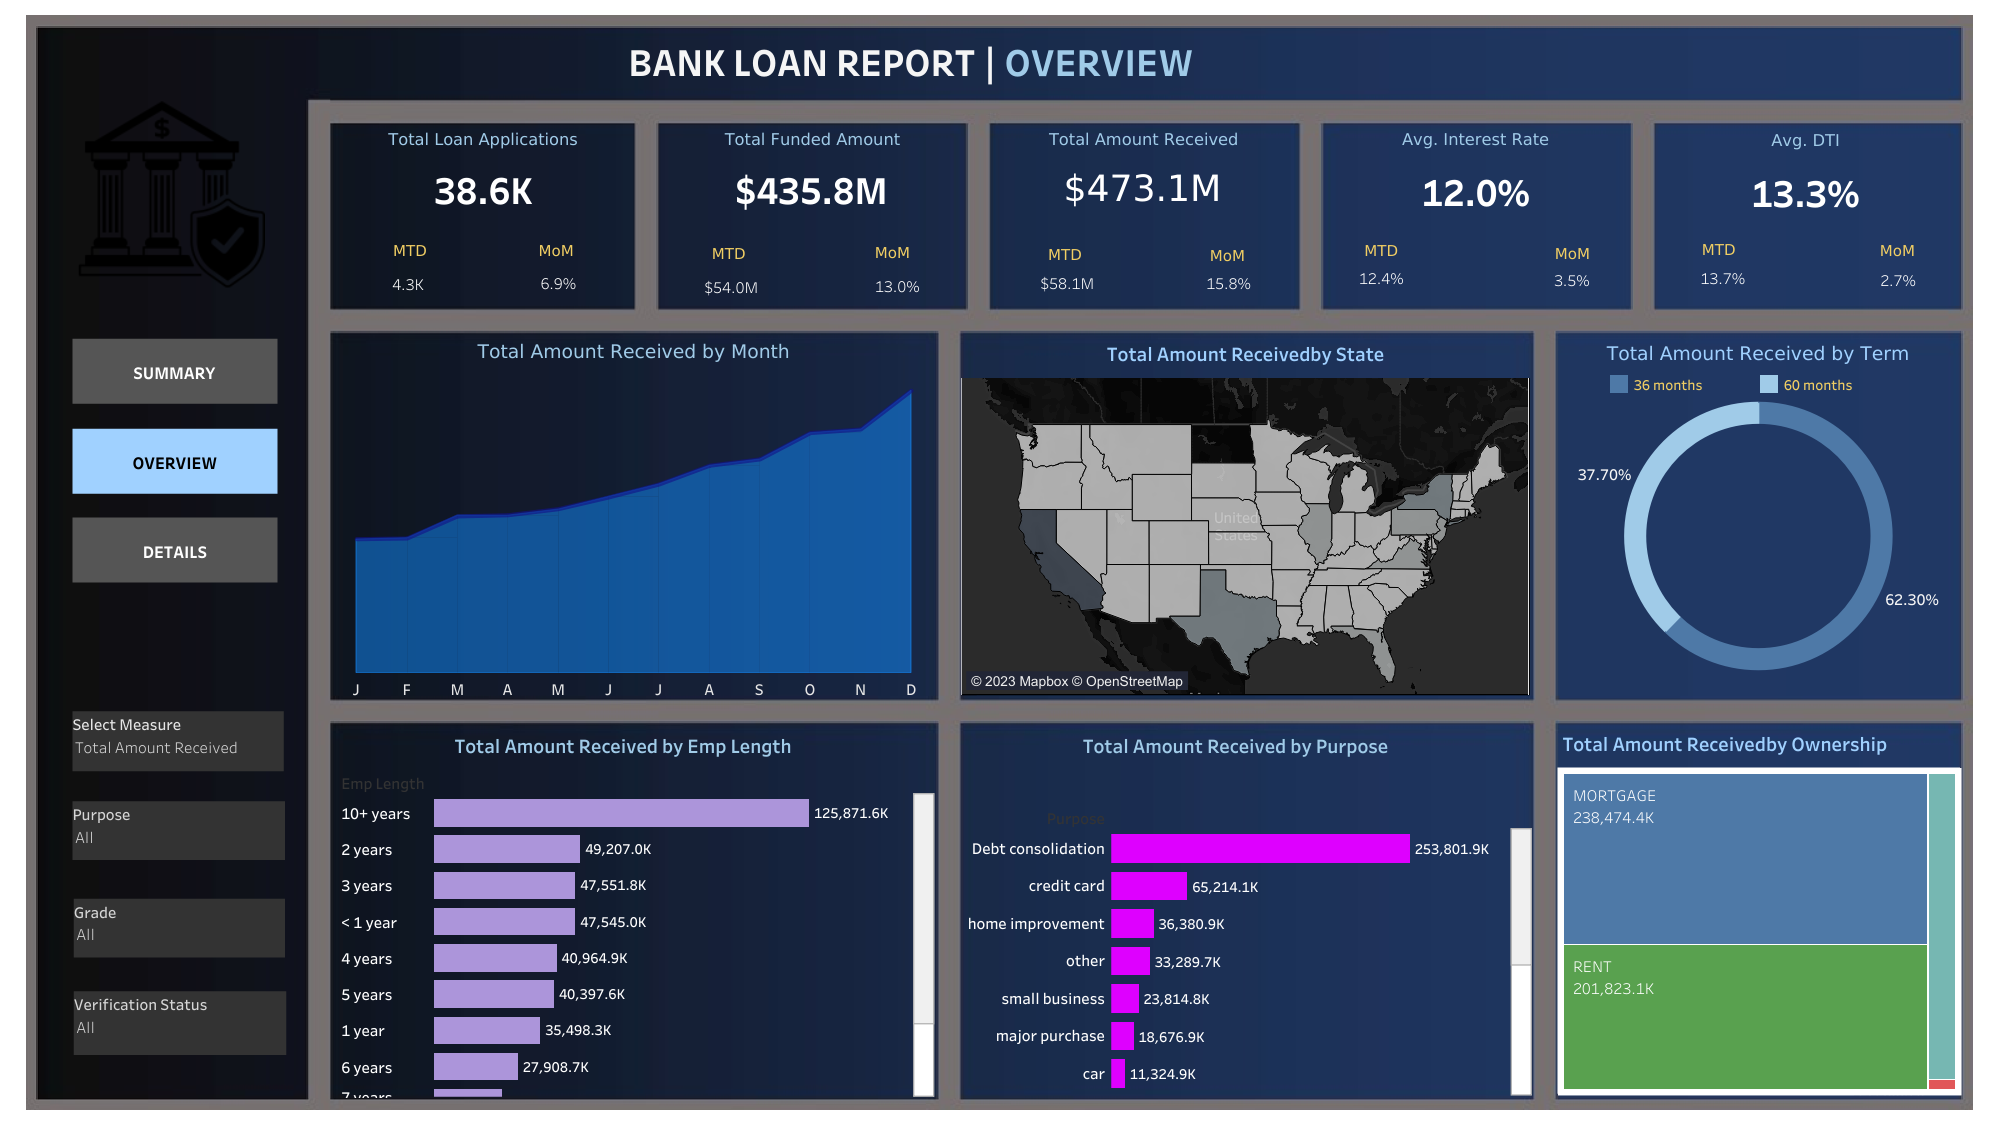

Layout of this report page (visuals, bound fields, positions):
{"tool":"tableau","page":{"name":"OVERVIEW","canvas":[1600,900],"ordinal":1},"visuals":[{"type":"image","param":"Image/Tableau Background 2.jpg","box":[8,8,1584,884]},{"type":"text","box":[500,25,591,48]},{"type":"image","param":"Image/finance-7731978_1280 1.png","box":[63,81,150,149]},{"type":"worksheet","title":"Total Loan Applications","mark":"Automatic","box":[266,97,241,76]},{"type":"worksheet","title":"Total Funded Amount","mark":"Automatic","box":[528,97,244,76]},{"type":"worksheet","title":"Total Amount Received","mark":"Automatic","box":[793,97,244,76]},{"type":"worksheet","title":"Avg. Interest Rate","mark":"Automatic","box":[1059,97,243,80]},{"type":"worksheet","title":"Avg. DTI","mark":"Automatic","box":[1324,98,241,79]},{"type":"text","box":[1346,184,58,30]},{"type":"text","box":[1076,185,58,30]},{"type":"text","box":[1489,185,58,30]},{"type":"text","box":[685,186,58,30]},{"type":"text","box":[554,187,58,30]},{"type":"text","box":[1229,187,58,30]},{"type":"text","box":[299,188,58,24]},{"type":"text","box":[416,188,58,24]},{"type":"text","box":[823,188,58,30]},{"type":"text","box":[953,189,58,30]},{"type":"worksheet","title":"MTD Avg Int Rate","mark":"Automatic","box":[1075,200,61,45]},{"type":"worksheet","title":"MoM Total Amount Received","mark":"Automatic","box":[940,204,86,45]},{"type":"worksheet","title":"MTD Avg. DTI","mark":"Automatic","box":[1338,205,81,34]},{"type":"worksheet","title":"MTD Total Amount Received","mark":"Automatic","box":[819,209,71,34]},{"type":"worksheet","title":"MoM Avg Int Rate","mark":"Automatic","box":[1215,209,85,31]},{"type":"worksheet","title":"MoM Avg DTI","mark":"Automatic","box":[1483,209,71,30]},{"type":"worksheet","title":"MoM Total Funded Amount","mark":"Automatic","box":[684,215,68,26]},{"type":"worksheet","title":"MTD Total Loan Applications","mark":"Automatic","box":[293,216,69,22]},{"type":"worksheet","title":"MoM Loan Application","mark":"Automatic","box":[414,217,65,19]},{"type":"worksheet","title":"MTD Total Funded Amount","mark":"Automatic","box":[546,220,78,18]},{"type":"worksheet","title":"MONTH","mark":"Area","rows":["Calculation_850054466537177132","Calculation_850054466537177132"],"cols":["issue_date"],"box":[265,266,484,294]},{"type":"worksheet","title":"STATE","mark":"Multipolygon","box":[769,266,455,290]},{"type":"worksheet","title":"TERM","mark":"Pie","rows":["Calculation_850054466557825070","Calculation_850054466557825070"],"box":[1247,268,319,289]},{"type":"dashboard-object","box":[58,271,164,52]},{"type":"legend","title":"TERM","param":"[federated.1d02x8h0645hfc154q3pg11jt201].[none:term:nk]","box":[1285,297,268,23]},{"type":"dashboard-object","box":[58,343,164,52]},{"type":"dashboard-object","box":[58,414,164,52]},{"type":"parameter","param":"[Parameters].[Parameter 1]","box":[58,569,169,48]},{"type":"worksheet","title":"Ownership","mark":"Automatic","box":[1246,578,322,302]},{"type":"worksheet","title":"Emp Length","mark":"Automatic","rows":["emp_length"],"cols":["Calculation_850054466537177132"],"box":[267,579,481,298]},{"type":"worksheet","title":"Purpose","mark":"Automatic","rows":["purpose"],"cols":["Calculation_850054466537177132"],"box":[769,579,457,297]},{"type":"filter","title":"Avg. DTI","param":"[federated.1d02x8h0645hfc154q3pg11jt201].[none:purpose:nk]","box":[58,641,170,47]},{"type":"filter","title":"Avg. DTI","param":"[federated.1d02x8h0645hfc154q3pg11jt201].[none:grade:nk]","box":[59,719,169,47]},{"type":"filter","title":"Avg. DTI","param":"[federated.1d02x8h0645hfc154q3pg11jt201].[none:verification_status:nk]","box":[59,793,170,51]}]}

Visuals, with their boxes in screenshot pixels (x1, y1, x2, y2), scaled from the page's 1600x900 canvas onto the 1999x1124 screenshot:
image: left=10, top=10, right=1989, bottom=1114
text: left=625, top=31, right=1363, bottom=91
image: left=79, top=101, right=266, bottom=287
"Total Loan Applications" worksheet: left=332, top=121, right=633, bottom=216
"Total Funded Amount" worksheet: left=660, top=121, right=965, bottom=216
"Total Amount Received" worksheet: left=991, top=121, right=1296, bottom=216
"Avg. Interest Rate" worksheet: left=1323, top=121, right=1627, bottom=221
"Avg. DTI" worksheet: left=1654, top=122, right=1955, bottom=221
text: left=1682, top=230, right=1754, bottom=267
text: left=1344, top=231, right=1417, bottom=269
text: left=1860, top=231, right=1933, bottom=269
text: left=856, top=232, right=928, bottom=270
text: left=692, top=234, right=765, bottom=271
text: left=1535, top=234, right=1608, bottom=271
text: left=374, top=235, right=446, bottom=265
text: left=520, top=235, right=592, bottom=265
text: left=1028, top=235, right=1101, bottom=272
text: left=1191, top=236, right=1263, bottom=274
"MTD Avg Int Rate" worksheet: left=1343, top=250, right=1419, bottom=306
"MoM Total Amount Received" worksheet: left=1174, top=255, right=1282, bottom=311
"MTD Avg. DTI" worksheet: left=1672, top=256, right=1773, bottom=298
"MTD Total Amount Received" worksheet: left=1023, top=261, right=1112, bottom=303
"MoM Avg Int Rate" worksheet: left=1518, top=261, right=1624, bottom=300
"MoM Avg DTI" worksheet: left=1853, top=261, right=1942, bottom=298
"MoM Total Funded Amount" worksheet: left=855, top=269, right=940, bottom=301
"MTD Total Loan Applications" worksheet: left=366, top=270, right=452, bottom=297
"MoM Loan Application" worksheet: left=517, top=271, right=598, bottom=295
"MTD Total Funded Amount" worksheet: left=682, top=275, right=780, bottom=297
"MONTH" worksheet (Area marks): left=331, top=332, right=936, bottom=699
"STATE" worksheet (Multipolygon marks): left=961, top=332, right=1529, bottom=694
"TERM" worksheet (Pie marks): left=1558, top=335, right=1957, bottom=696
dashboard-object: left=72, top=338, right=277, bottom=403
"TERM" legend: left=1605, top=371, right=1940, bottom=400
dashboard-object: left=72, top=428, right=277, bottom=493
dashboard-object: left=72, top=517, right=277, bottom=582
parameter: left=72, top=711, right=284, bottom=771
"Ownership" worksheet: left=1557, top=722, right=1959, bottom=1099
"Emp Length" worksheet: left=334, top=723, right=935, bottom=1095
"Purpose" worksheet: left=961, top=723, right=1532, bottom=1094
"Avg. DTI" filter: left=72, top=801, right=285, bottom=859
"Avg. DTI" filter: left=74, top=898, right=285, bottom=957
"Avg. DTI" filter: left=74, top=990, right=286, bottom=1054
